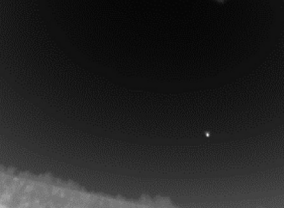Target: (206, 132, 208, 136)
